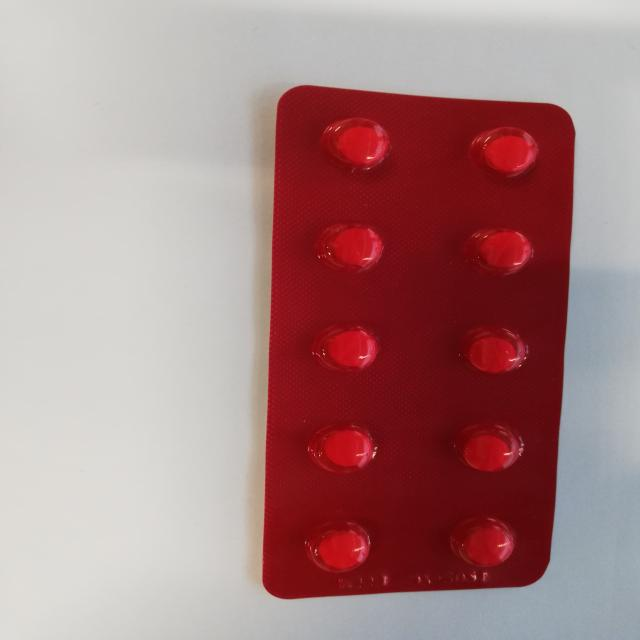Pill: (313, 105, 406, 173), (465, 115, 552, 182), (317, 214, 396, 279), (444, 514, 530, 572), (309, 318, 391, 378), (456, 326, 540, 384), (465, 220, 546, 280), (302, 521, 387, 576), (309, 418, 389, 476), (454, 425, 532, 478)
